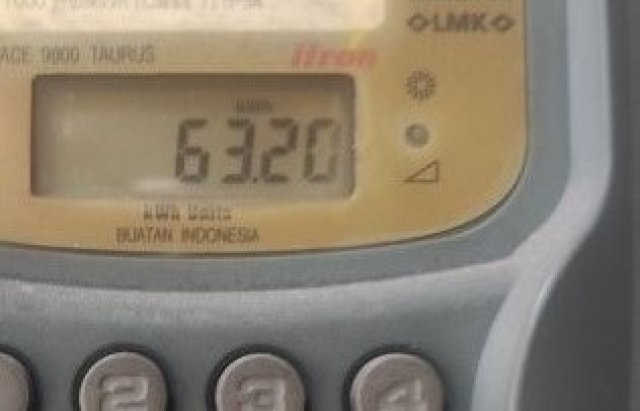box: (32, 75, 353, 199)
